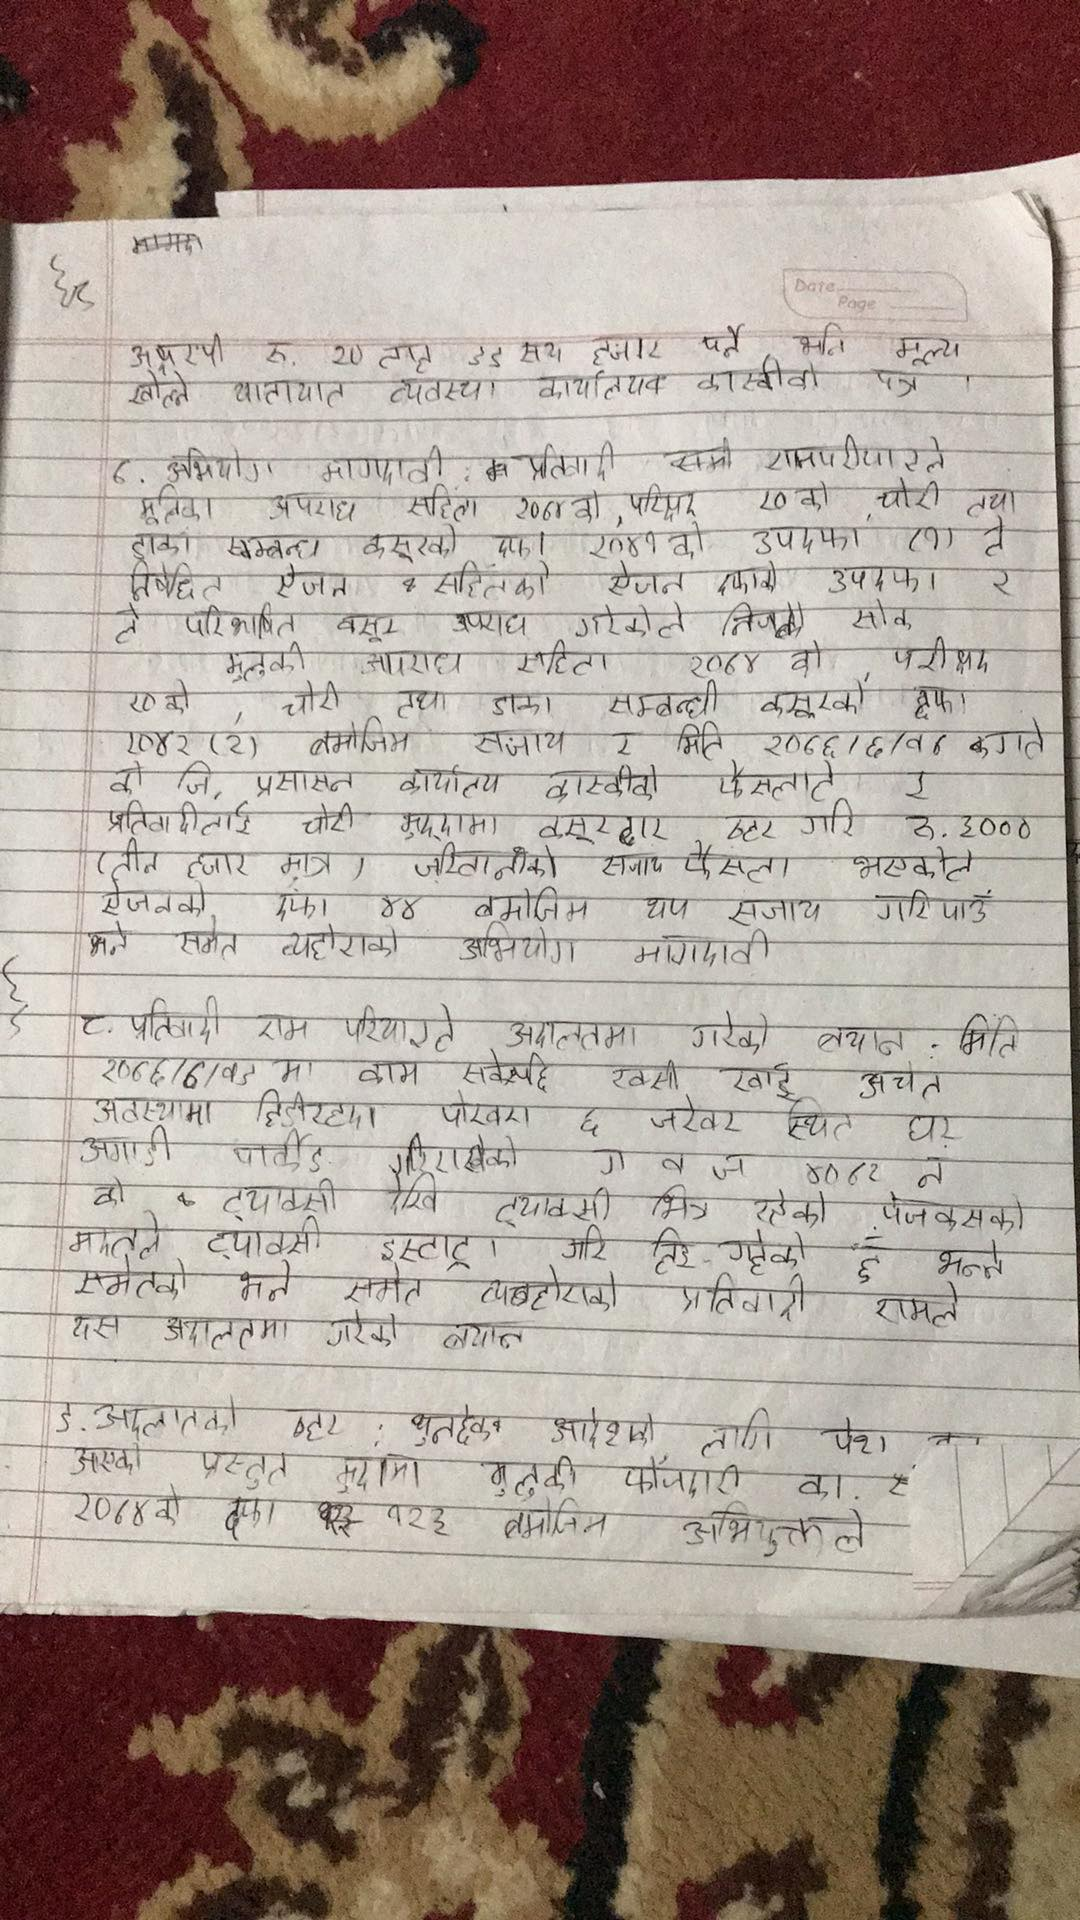text: (676, 1499, 876, 1564), (764, 433, 953, 477), (676, 1269, 814, 1325), (761, 725, 960, 764), (88, 1393, 241, 1440), (475, 1271, 629, 1316), (96, 1052, 262, 1093), (105, 796, 261, 840), (381, 1131, 524, 1178), (456, 920, 583, 972), (340, 1000, 463, 1052), (249, 1085, 384, 1133), (504, 1013, 645, 1058), (411, 841, 560, 884), (69, 1255, 195, 1303), (632, 931, 777, 972), (75, 1485, 193, 1534), (512, 439, 632, 487), (621, 1456, 748, 1501), (543, 1407, 661, 1455), (501, 1495, 612, 1545), (157, 1311, 291, 1352), (571, 601, 690, 647), (604, 676, 723, 723), (715, 761, 840, 804), (872, 887, 997, 931), (849, 848, 985, 887), (496, 1183, 615, 1228), (881, 1199, 1025, 1236), (301, 717, 414, 764), (429, 560, 553, 603), (543, 765, 667, 807), (128, 993, 229, 1044), (204, 1217, 324, 1261), (680, 840, 796, 885), (684, 1007, 779, 1062), (315, 447, 454, 484), (280, 920, 405, 960), (473, 884, 593, 924), (756, 676, 872, 719), (864, 1284, 964, 1333), (535, 365, 673, 401), (208, 1182, 345, 1217), (458, 1048, 566, 1093), (694, 1404, 781, 1460), (227, 373, 348, 413), (160, 447, 277, 488), (716, 1232, 816, 1279), (891, 636, 1007, 676), (824, 560, 948, 599), (61, 1216, 166, 1261), (531, 810, 674, 843), (121, 560, 228, 604), (183, 604, 301, 644), (88, 1092, 214, 1129), (744, 1184, 839, 1232), (699, 361, 829, 396), (895, 812, 1036, 844), (404, 1404, 495, 1453), (375, 1226, 473, 1271), (320, 1303, 404, 1356), (646, 1095, 746, 1138), (355, 644, 472, 680), (229, 1133, 328, 1176), (75, 1131, 179, 1172), (382, 372, 501, 407), (487, 1455, 578, 1501), (193, 1445, 289, 1489), (396, 761, 505, 799), (433, 1091, 541, 1129), (721, 889, 823, 928), (744, 524, 865, 556), (94, 887, 214, 920), (517, 640, 613, 680), (328, 1453, 427, 1493), (396, 807, 506, 841), (603, 556, 692, 599), (357, 527, 463, 563), (773, 1096, 856, 1141), (721, 599, 812, 640), (123, 335, 227, 371), (931, 1237, 1007, 1284), (953, 1011, 1025, 1062), (339, 1267, 429, 1307), (851, 1065, 945, 1102), (796, 1156, 891, 1193), (404, 485, 483, 529), (468, 727, 568, 760), (220, 647, 309, 684), (261, 492, 363, 524), (815, 1023, 909, 1058), (669, 721, 736, 769), (247, 767, 356, 796), (220, 1489, 284, 1539), (448, 609, 541, 644), (909, 679, 977, 725), (331, 600, 397, 647), (827, 1412, 893, 1460), (876, 475, 952, 516), (723, 1063, 799, 1104), (69, 1439, 142, 1481), (218, 531, 324, 560), (268, 567, 357, 601), (382, 1503, 455, 1545), (435, 1320, 527, 1353), (125, 371, 196, 413), (624, 483, 696, 524), (125, 676, 195, 719), (899, 1106, 969, 1149), (233, 1261, 295, 1308), (717, 559, 785, 603), (175, 924, 248, 964), (129, 496, 219, 527), (645, 1184, 712, 1226), (848, 596, 916, 637), (992, 720, 1054, 764), (587, 332, 661, 368), (382, 1172, 440, 1217), (607, 1060, 692, 1091), (276, 680, 345, 717), (488, 688, 563, 723), (599, 848, 667, 885), (299, 799, 363, 839), (280, 1407, 349, 1443), (252, 1007, 313, 1048), (121, 531, 196, 564), (262, 887, 338, 920), (785, 320, 847, 360), (795, 807, 864, 843), (645, 1232, 699, 1276), (717, 808, 781, 847), (793, 1468, 853, 1507), (181, 851, 253, 884), (688, 647, 764, 679), (109, 839, 161, 885), (357, 1054, 419, 1092), (65, 1311, 127, 1349), (891, 331, 959, 365), (120, 729, 195, 760), (869, 363, 924, 404), (273, 848, 340, 881), (392, 684, 451, 721), (698, 319, 748, 363), (84, 916, 136, 959), (589, 531, 659, 560), (644, 885, 691, 927), (964, 487, 1025, 520), (491, 527, 553, 559), (376, 342, 435, 375), (105, 760, 152, 800), (560, 1224, 607, 1265), (171, 764, 220, 800), (785, 640, 832, 676), (459, 334, 508, 369), (796, 476, 839, 517), (516, 335, 572, 365), (512, 495, 568, 525), (909, 1153, 955, 1189), (272, 1052, 320, 1087), (711, 1149, 756, 1183), (853, 1244, 891, 1283), (92, 1172, 128, 1215), (572, 487, 605, 529), (669, 527, 709, 560), (592, 1145, 629, 1180), (985, 568, 1023, 603), (752, 485, 793, 516), (109, 607, 140, 647), (375, 895, 423, 920), (607, 725, 640, 760), (327, 343, 367, 371), (576, 1106, 609, 1135), (655, 1149, 688, 1178), (261, 339, 293, 364), (920, 524, 945, 555)
